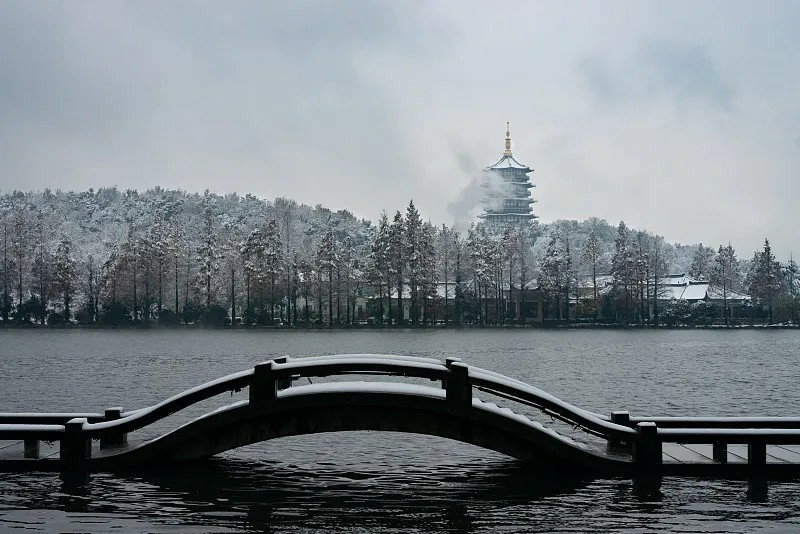Leifeng: (475, 120, 541, 230)
